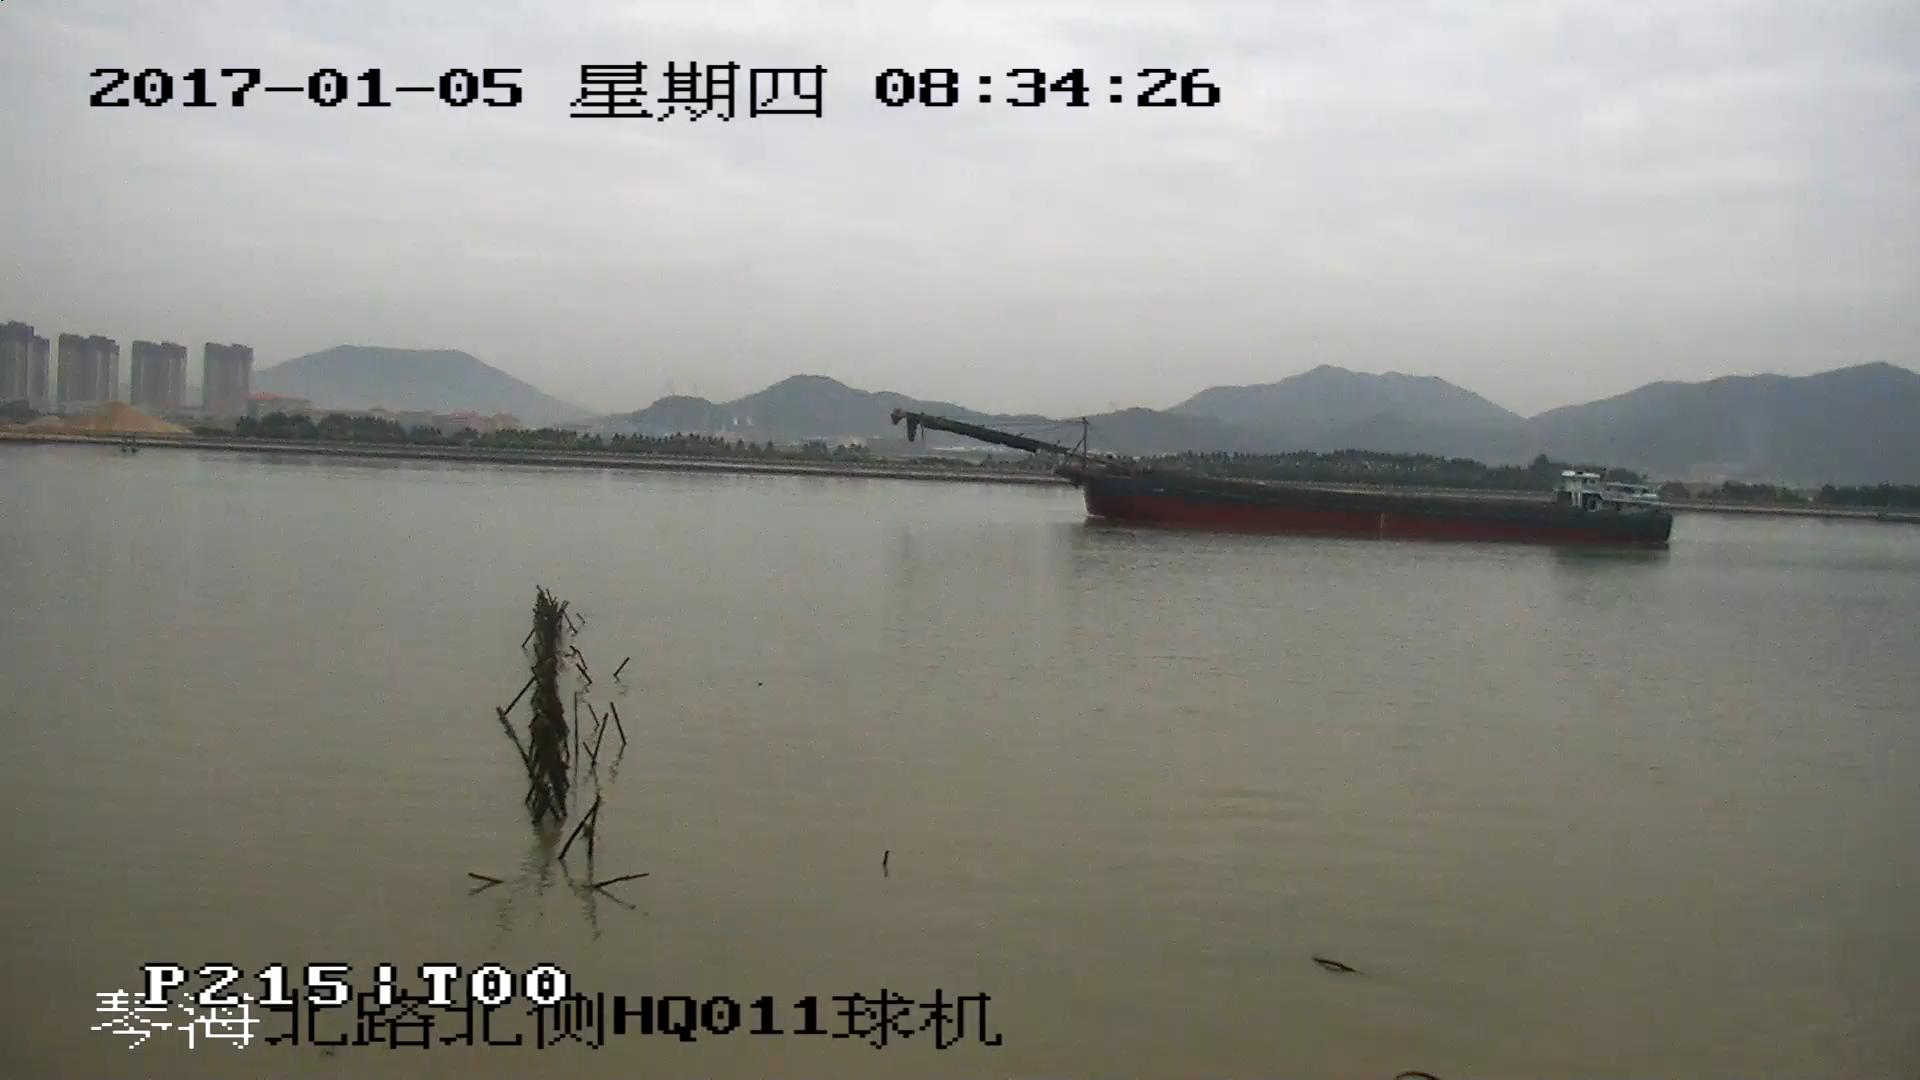bulk cargo carrier: (895, 411, 1672, 548)
